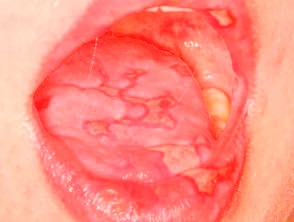SJS-TEN: (139, 113, 244, 204), (82, 62, 179, 139), (206, 0, 242, 36)
